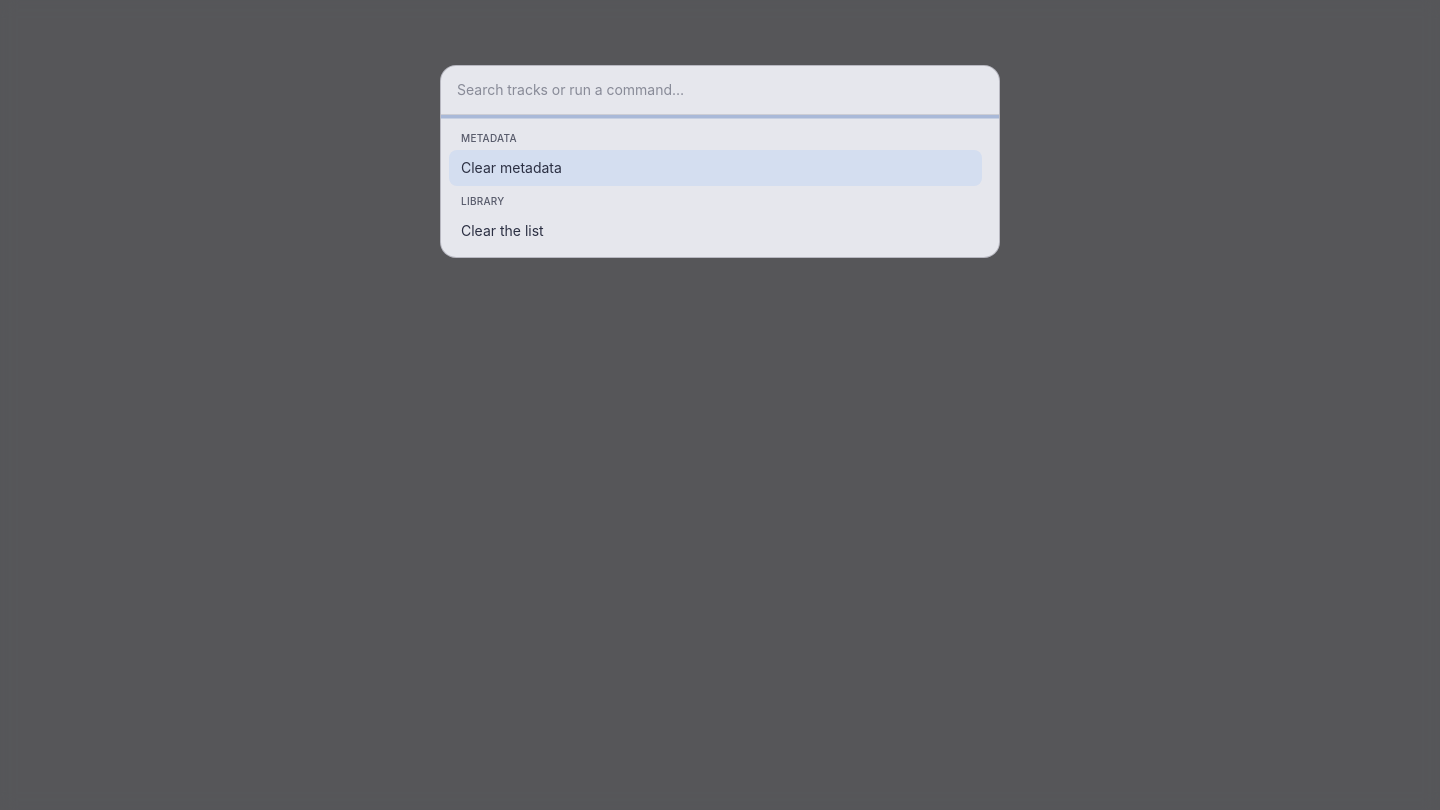
Test case: CommandPalette › drops the group order for a query, ranking matches flat by usage
The image size is (1440, 810).
Type "clear" into the dropdown with test id "palette-input" at [720, 90], box [441,66,999,115]
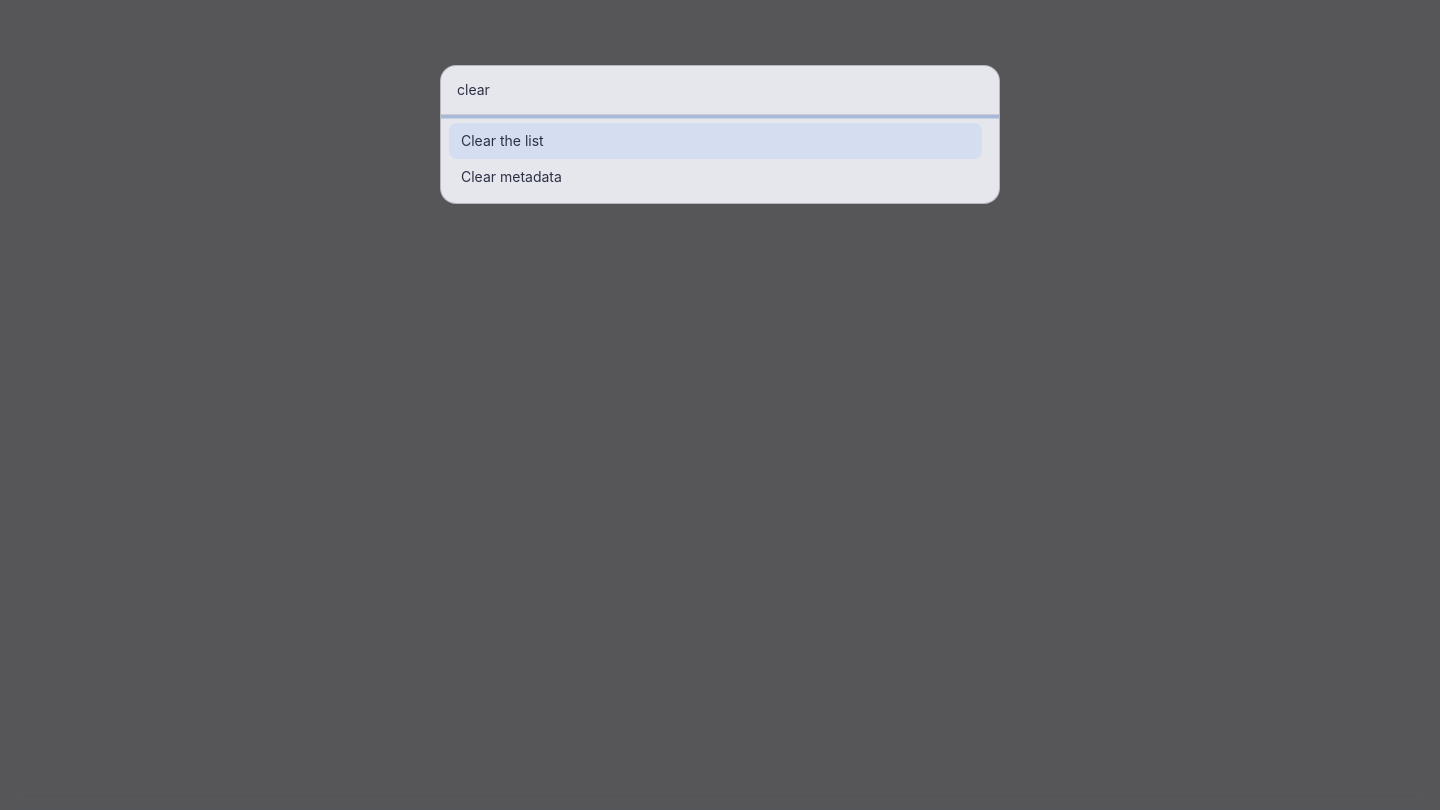
Expected: the text "Clear the list" is shown, [461,131,544,151]
Expected: no elements with test id "palette-group-header" are shown
